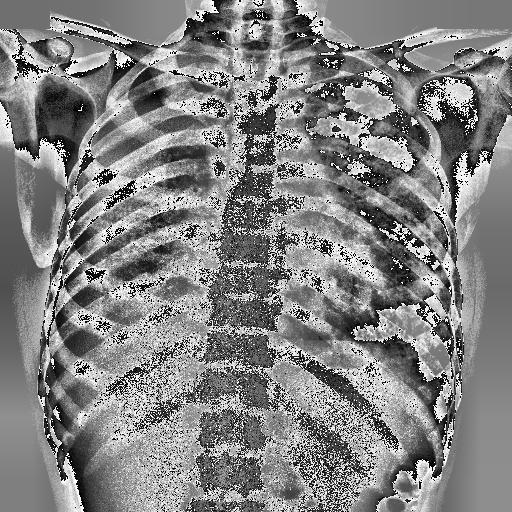10- Pleural effusion: (48, 61, 226, 370), (50, 49, 221, 337), (42, 90, 214, 341)
5- ILD: (314, 65, 448, 317)
6- Infiltration: (290, 73, 458, 352), (314, 65, 448, 317), (302, 122, 449, 306)
7- Lung Opacity: (290, 73, 458, 352), (106, 145, 213, 311), (109, 139, 205, 292)
8- Nodule-Mass: (114, 138, 204, 305)
